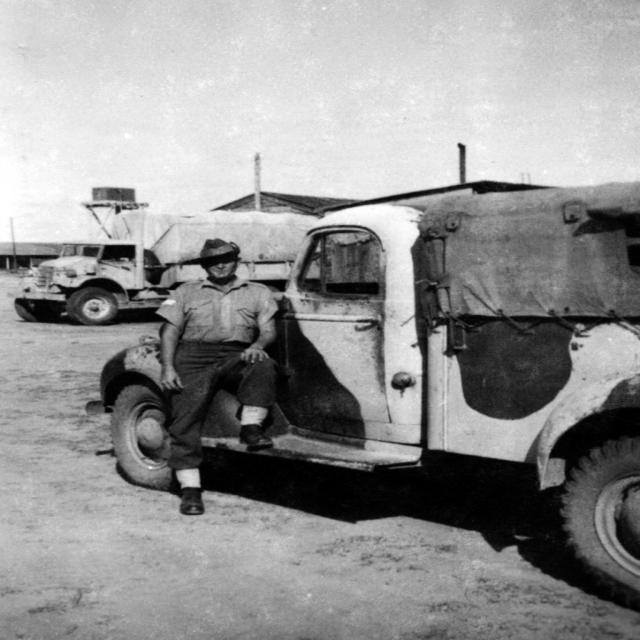bicycle: (80, 171, 624, 577), (10, 206, 330, 324)
